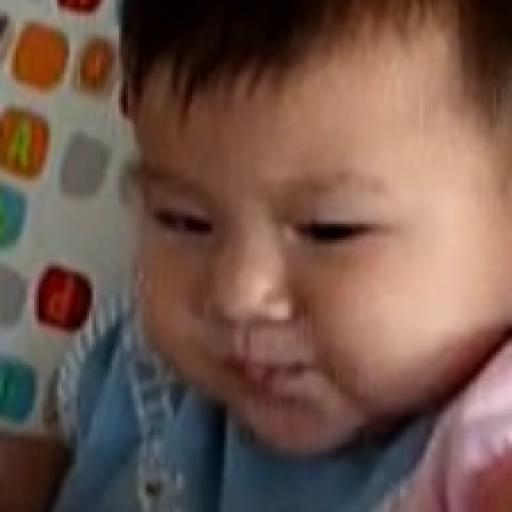Autism: (106, 34, 512, 500)
